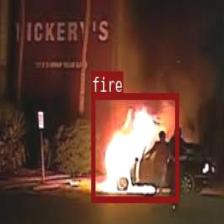fire: (90, 92, 178, 202)
